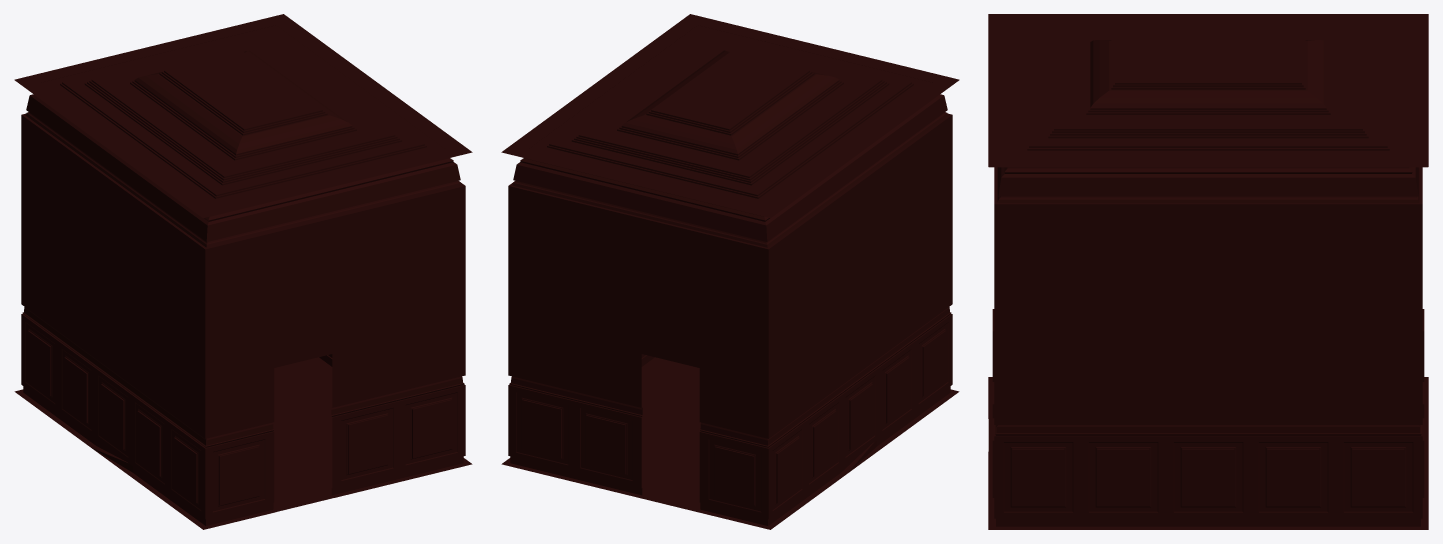
Rendered from 2door_4.FBX.
The picture shows the model from 3 angles, left to right: view 1: azimuth 30°, elevation 25°; view 2: azimuth 150°, elevation 25°; view 3: azimuth 270°, elevation 25°; orthographic projection. The views are drawn at different scales.
Parts seen in each view (by area): view 1: wall, ceiling, floor; view 2: wall, ceiling, floor; view 3: wall, ceiling, floor.
Part boxes in pixels (<box>): wall: <box>14,14,472,529</box>; ceiling: <box>14,25,467,217</box>; floor: <box>17,357,468,528</box>; wall: <box>501,14,959,529</box>; ceiling: <box>506,16,959,217</box>; floor: <box>505,357,955,529</box>; wall: <box>988,14,1428,529</box>; ceiling: <box>989,23,1427,167</box>; floor: <box>988,378,1428,528</box>.
Size of the model in its own units: 160 by 195 by 192.
